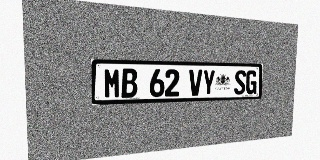2: (165, 69, 179, 97)
6: (150, 69, 165, 97)
B: (121, 68, 137, 98)
G: (245, 70, 257, 94)
M: (104, 68, 121, 98)
S: (234, 70, 246, 95)
V: (189, 69, 202, 96)
Y: (202, 70, 215, 96)
